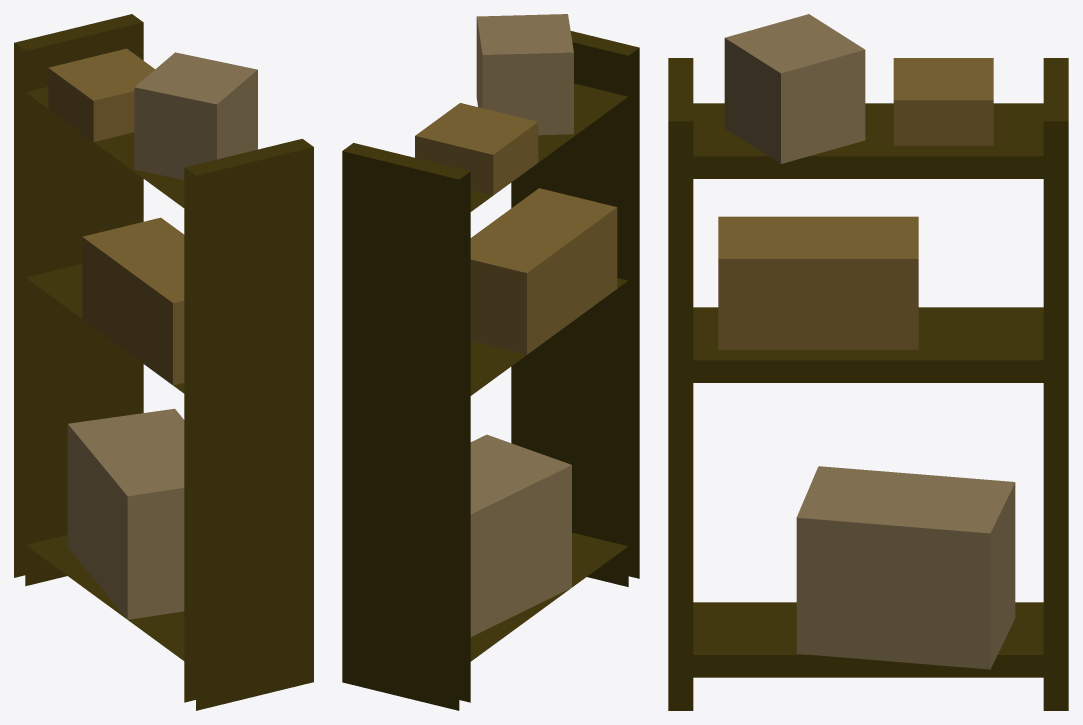
The model's file is obj_warehouse_shelves_2_0.obj.
The picture shows the model from 3 angles, left to right: view 1: azimuth 30°, elevation 25°; view 2: azimuth 150°, elevation 25°; view 3: azimuth 270°, elevation 25°; orthographic projection. The views are drawn at different scales.
Bounding box in the file's own units: 0.3984 × 1.75 × 1.
